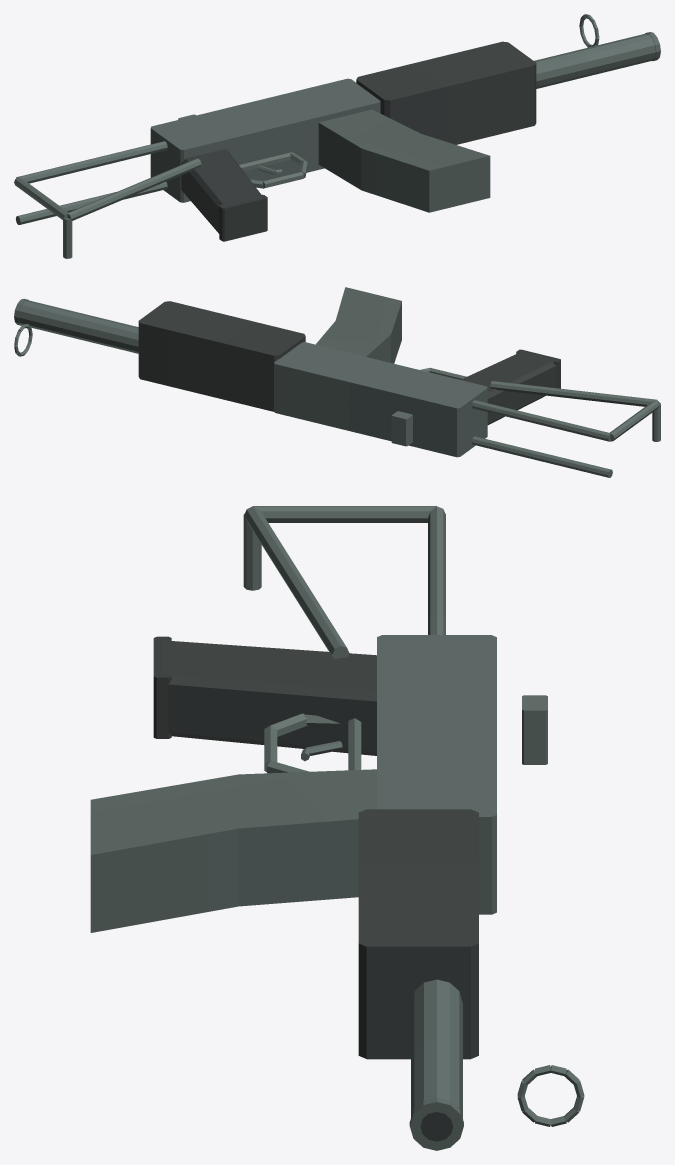
Rendered from weapon-mp5.glb.
The picture shows the model from 3 angles, top to bottom: view 1: azimuth 30°, elevation 25°; view 2: azimuth 150°, elevation 25°; view 3: azimuth 270°, elevation 25°; orthographic projection. The views are drawn at different scales.
Visible parts, largest first — view 1: weapon-mp5/independent-forehandguard, weapon-mp5/full-depth-receiver, weapon-mp5/distinct-detachable-magazine, weapon-mp5/distinct-eight-sided-pistol-grip, weapon-mp5/round-barrel, weapon-mp5/distinct-eight-sided-pistol-grip-heel, weapon-mp5/open-wire-stock-1, weapon-mp5/open-wire-stock-3, weapon-mp5/far-wire-support-1, weapon-mp5/open-wire-stock-2, weapon-mp5/wire-butt-width-1, weapon-mp5/full-open-trigger-guard-1; view 2: weapon-mp5/full-depth-receiver, weapon-mp5/independent-forehandguard, weapon-mp5/distinct-detachable-magazine, weapon-mp5/round-barrel, weapon-mp5/distinct-eight-sided-pistol-grip, weapon-mp5/open-wire-stock-3, weapon-mp5/far-wire-support-1, weapon-mp5/open-wire-stock-1, weapon-mp5/rear-sight, weapon-mp5/open-wire-stock-2, weapon-mp5/wire-butt-width-1; view 3: weapon-mp5/distinct-detachable-magazine, weapon-mp5/independent-forehandguard, weapon-mp5/full-depth-receiver, weapon-mp5/distinct-eight-sided-pistol-grip, weapon-mp5/round-barrel, weapon-mp5/open-wire-stock-3, weapon-mp5/open-wire-stock-2, weapon-mp5/open-wire-stock-1, weapon-mp5/rear-sight, weapon-mp5/round-barrel-end-rim, weapon-mp5/distinct-eight-sided-pistol-grip-heel, weapon-mp5/wire-butt-width-1.
Part boxes in pixels (x1,y1,x2,y2): weapon-mp5/independent-forehandguard: [356, 41, 536, 144]; weapon-mp5/full-depth-receiver: [150, 78, 380, 202]; weapon-mp5/distinct-detachable-magazine: [318, 109, 490, 212]; weapon-mp5/distinct-eight-sided-pistol-grip: [181, 149, 261, 233]; weapon-mp5/round-barrel: [534, 33, 655, 88]; weapon-mp5/distinct-eight-sided-pistol-grip-heel: [219, 194, 267, 241]; weapon-mp5/open-wire-stock-1: [16, 141, 167, 183]; weapon-mp5/open-wire-stock-3: [67, 158, 201, 220]; weapon-mp5/far-wire-support-1: [16, 182, 167, 224]; weapon-mp5/open-wire-stock-2: [14, 177, 68, 219]; weapon-mp5/wire-butt-width-1: [63, 218, 72, 258]; weapon-mp5/full-open-trigger-guard-1: [239, 152, 291, 171]; weapon-mp5/full-depth-receiver: [274, 342, 487, 457]; weapon-mp5/independent-forehandguard: [138, 301, 305, 411]; weapon-mp5/distinct-detachable-magazine: [316, 287, 401, 363]; weapon-mp5/round-barrel: [18, 300, 138, 353]; weapon-mp5/distinct-eight-sided-pistol-grip: [460, 352, 556, 424]; weapon-mp5/open-wire-stock-3: [490, 381, 657, 406]; weapon-mp5/far-wire-support-1: [472, 436, 612, 477]; weapon-mp5/open-wire-stock-1: [472, 400, 610, 441]; weapon-mp5/rear-sight: [391, 411, 412, 446]; weapon-mp5/open-wire-stock-2: [610, 400, 660, 441]; weapon-mp5/wire-butt-width-1: [652, 403, 660, 441]; weapon-mp5/distinct-detachable-magazine: [90, 769, 376, 932]; weapon-mp5/independent-forehandguard: [358, 809, 478, 1059]; weapon-mp5/full-depth-receiver: [377, 635, 496, 914]; weapon-mp5/distinct-eight-sided-pistol-grip: [162, 640, 376, 755]; weapon-mp5/round-barrel: [411, 979, 462, 1118]; weapon-mp5/open-wire-stock-3: [244, 506, 349, 658]; weapon-mp5/open-wire-stock-2: [253, 506, 436, 522]; weapon-mp5/open-wire-stock-1: [428, 506, 445, 634]; weapon-mp5/rear-sight: [522, 695, 547, 764]; weapon-mp5/round-barrel-end-rim: [409, 1097, 463, 1150]; weapon-mp5/distinct-eight-sided-pistol-grip-heel: [153, 636, 171, 738]; weapon-mp5/wire-butt-width-1: [243, 513, 261, 590].
Size of the model in its own units: 0.686 by 0.062 by 0.2467.
Materials: 2 (2 with a texture image).
